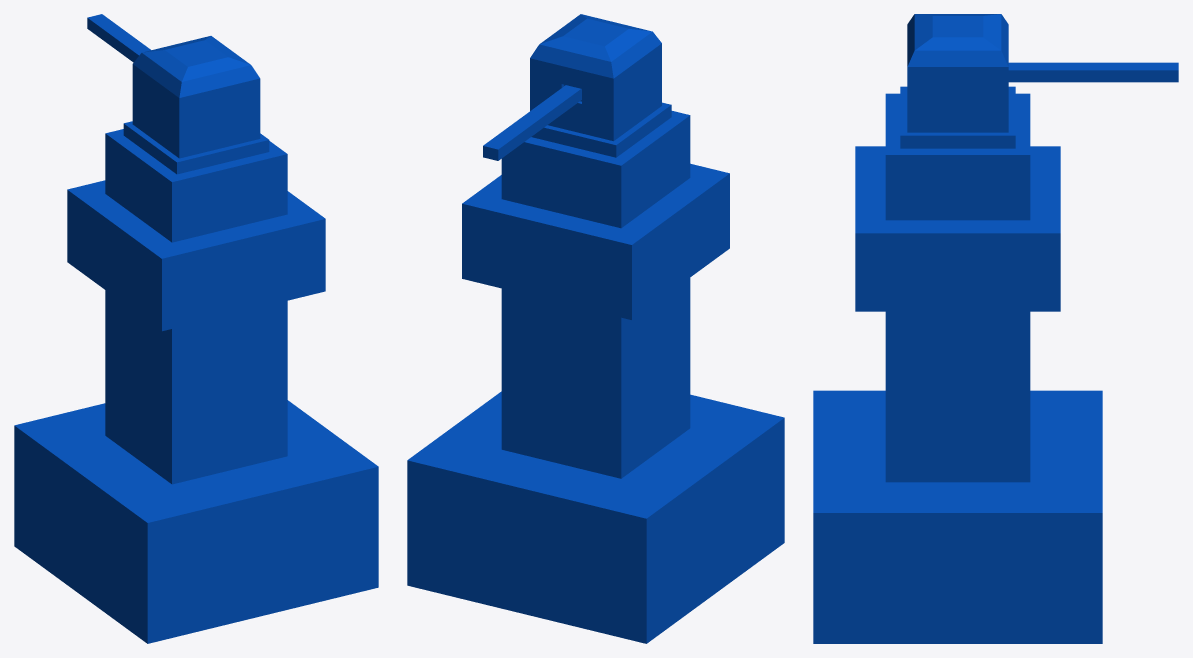
Rendered from turret.fbx.
3 views of the same model, side by side, from view 1: azimuth 30°, elevation 25°; view 2: azimuth 150°, elevation 25°; view 3: azimuth 270°, elevation 25° (orthographic). The views are drawn at different scales.
Visible parts, largest first — view 1: Turret Body, Turret Head; view 2: Turret Body, Turret Head; view 3: Turret Body, Turret Head.
Part boxes in pixels (x1=…): Turret Body: x1=14, y1=121, x2=378, y2=643; Turret Head: x1=87, y1=14, x2=260, y2=158; Turret Body: x1=407, y1=102, x2=784, y2=643; Turret Head: x1=483, y1=14, x2=661, y2=160; Turret Body: x1=813, y1=86, x2=1102, y2=643; Turret Head: x1=907, y1=14, x2=1178, y2=132.
Bounding box in the file's own units: 200 × 425 × 253.
